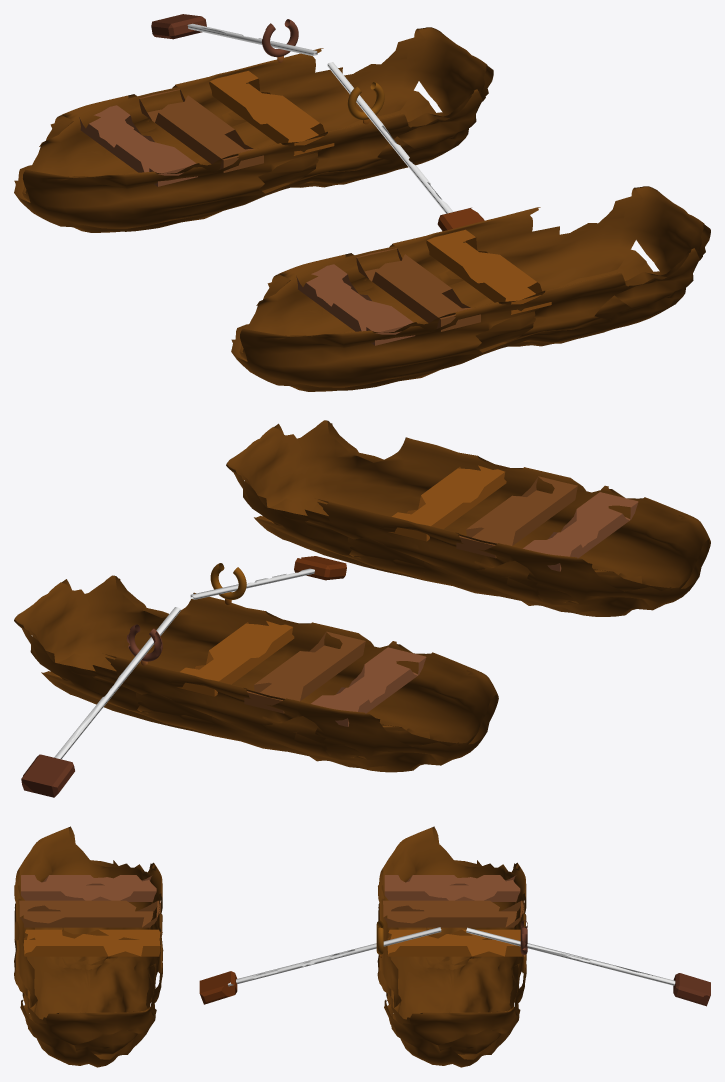
The model's file is boat.fbx.
3 views of the same model, one above another, from view 1: azimuth 30°, elevation 25°; view 2: azimuth 150°, elevation 25°; view 3: azimuth 270°, elevation 25° (orthographic). The views are drawn at different scales.
Visible parts, largest first — view 1: Sphere.001, Sphere, Cube.002, Cube.007, Cube.003, Cube.006, Cube.004, Cube.005, Cube.009, Cube, Cube.008, Cube.001 (+2 smaller); view 2: Sphere.001, Sphere, Cube.006, Cube.003, Cube.002, Cube.007, Cube.004, Cube.005, Cube, Cube.008, Cube.001, Cube.009 (+2 smaller); view 3: Sphere.001, Sphere, Cube.007, Cube.003, Cube.006, Cube.004, Cube.005, Cube.002, Cube.008, Cube.009, Cube.001, Cube.
Boxes of the visible parts, <box> form: Sphere.001: <box>231,186,710,391</box>; Sphere: <box>14,27,493,232</box>; Cube.002: <box>209,71,334,155</box>; Cube.007: <box>426,229,551,314</box>; Cube.003: <box>139,89,263,172</box>; Cube.006: <box>356,248,480,331</box>; Cube.004: <box>79,105,197,186</box>; Cube.005: <box>296,264,415,345</box>; Cube.009: <box>327,62,453,213</box>; Cube: <box>151,14,206,39</box>; Cube.008: <box>187,23,317,55</box>; Cube.001: <box>437,207,484,231</box>; Sphere.001: <box>226,420,710,616</box>; Sphere: <box>14,575,498,772</box>; Cube.006: <box>456,476,577,558</box>; Cube.003: <box>244,631,365,713</box>; Cube.002: <box>177,617,298,696</box>; Cube.007: <box>388,462,510,541</box>; Cube.004: <box>311,647,426,726</box>; Cube.005: <box>523,492,638,571</box>; Cube: <box>21,754,74,797</box>; Cube.008: <box>54,607,180,759</box>; Cube.001: <box>294,556,346,580</box>; Cube.009: <box>190,568,314,599</box>; Sphere.001: <box>14,826,163,1067</box>; Sphere: <box>377,826,526,1067</box>; Cube.007: <box>23,929,160,956</box>; Cube.003: <box>383,900,524,927</box>; Cube.006: <box>19,900,160,927</box>; Cube.004: <box>384,875,520,901</box>; Cube.005: <box>21,875,156,901</box>; Cube.002: <box>387,929,522,956</box>; Cube.008: <box>466,927,675,985</box>; Cube.009: <box>228,927,441,986</box>; Cube.001: <box>199,971,237,1004</box>; Cube: <box>673,973,710,1006</box>.
Size of the model in its own units: 228 by 60.84 by 359.
